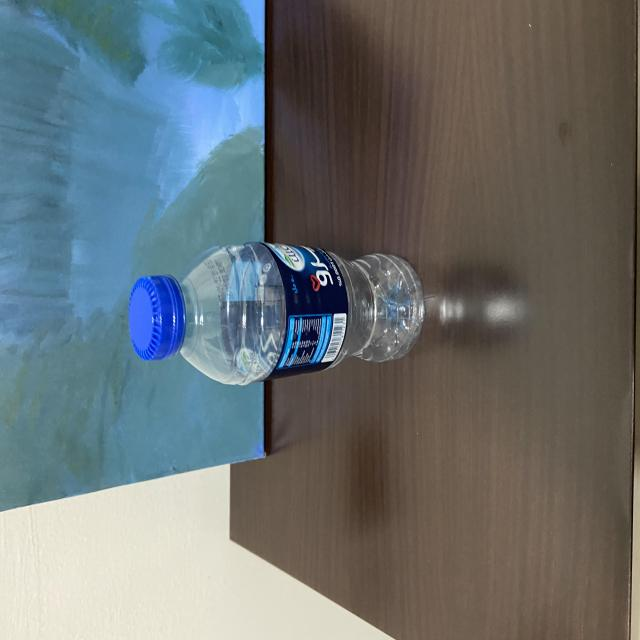bottle: (125, 236, 438, 386)
